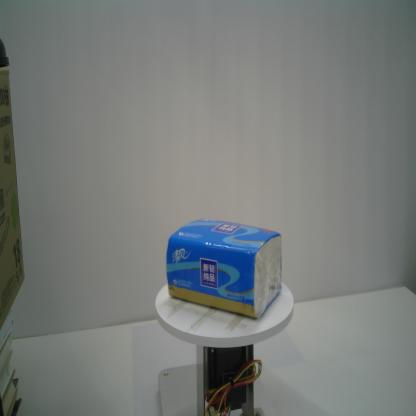Tissue: (164, 217, 284, 319)
